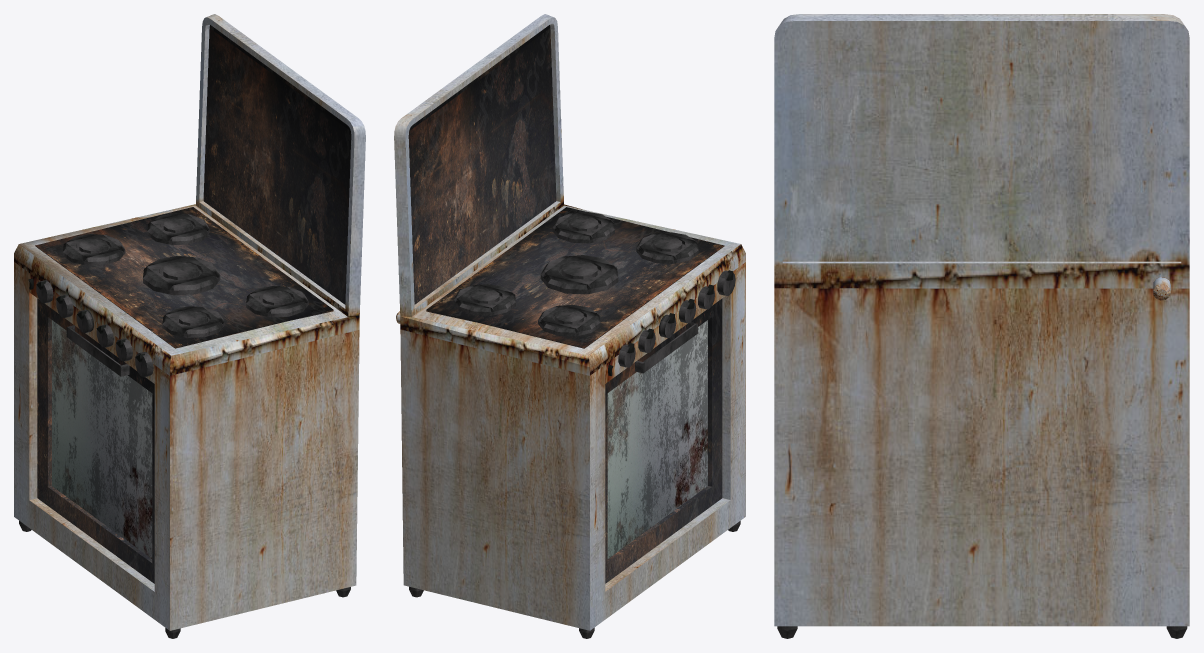
File: stove.fbx
3 renders of one model, left to right at view 1: azimuth 30°, elevation 25°; view 2: azimuth 150°, elevation 25°; view 3: azimuth 270°, elevation 25°, orthographic. The views are drawn at different scales.
Visible parts, largest first — view 1: Box001, Box003, Cylinder017, Cylinder025, Cylinder018, Cylinder021, Cylinder020, Box002; view 2: Box001, Box003, Cylinder017, Cylinder018, Cylinder020, Cylinder021, Cylinder025, Box002; view 3: Box001.
Part boxes in pixels (left/top/right/bottom): Box001: left=14, top=14, right=365, bottom=630; Box003: left=35, top=207, right=333, bottom=348; Cylinder017: left=143, top=256, right=220, bottom=295; Cylinder025: left=62, top=234, right=125, bottom=265; Cylinder018: left=147, top=213, right=209, bottom=244; Cylinder021: left=162, top=306, right=224, bottom=337; Cylinder020: left=246, top=285, right=308, bottom=317; Box002: left=66, top=325, right=129, bottom=376; Box001: left=394, top=14, right=745, bottom=630; Box003: left=426, top=207, right=724, bottom=348; Cylinder017: left=540, top=255, right=618, bottom=294; Cylinder018: left=453, top=284, right=515, bottom=315; Cylinder020: left=552, top=211, right=614, bottom=243; Cylinder021: left=636, top=232, right=698, bottom=263; Cylinder025: left=538, top=304, right=600, bottom=336; Box002: left=635, top=322, right=697, bottom=373; Box001: left=774, top=14, right=1189, bottom=626.
Size of the model in its own units: 70.57 by 150 by 90.15.
Materials: 7 (6 with a texture image).
